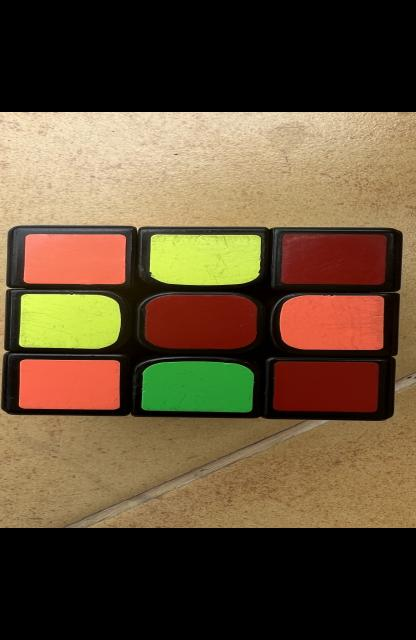Green: (141, 361, 253, 413)
Orange: (278, 295, 383, 350), (23, 234, 125, 284), (18, 360, 120, 409)
Red: (145, 295, 256, 349), (273, 361, 378, 413), (280, 235, 386, 285)
Yellow: (18, 294, 120, 349), (148, 235, 260, 285)
